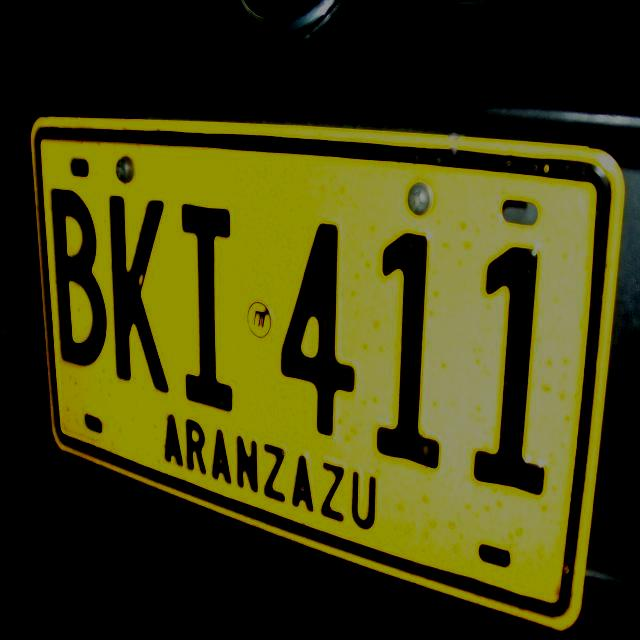placa: (28, 105, 626, 635)
